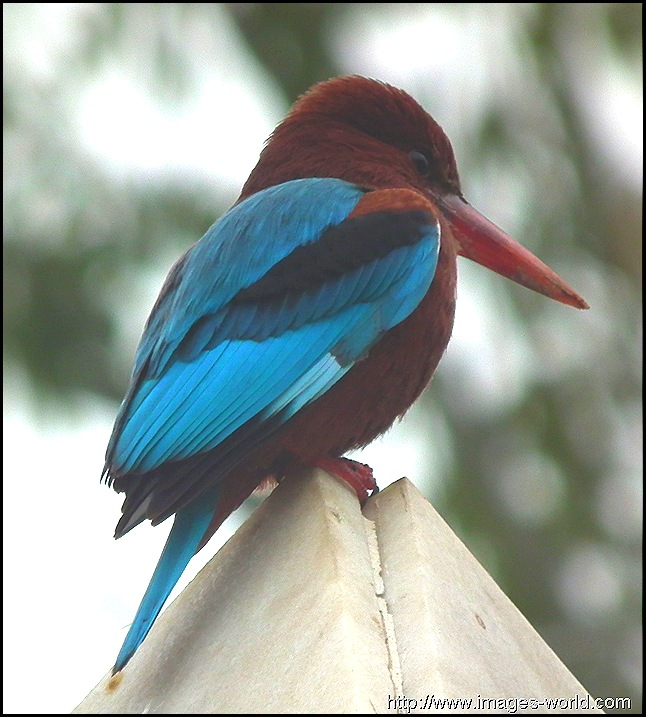bird: (82, 50, 602, 684)
